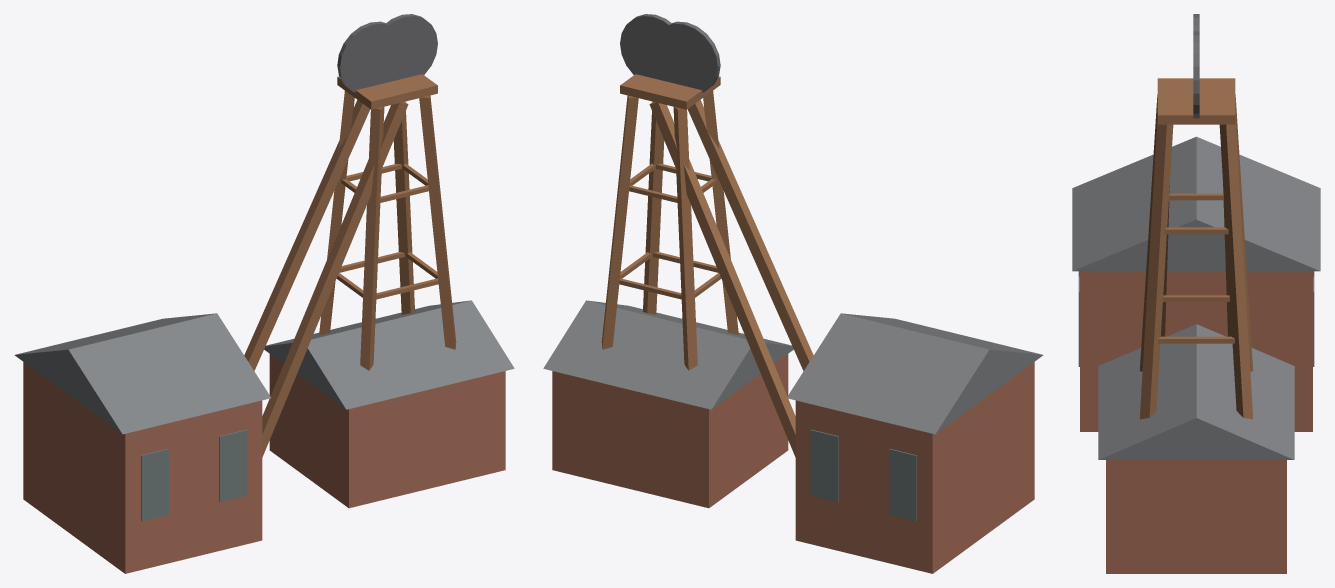
The model's file is Headframe.glb.
The picture shows the model from 3 angles, left to right: view 1: azimuth 30°, elevation 25°; view 2: azimuth 150°, elevation 25°; view 3: azimuth 270°, elevation 25°; orthographic projection. The views are drawn at different scales.
Visible parts, largest first — view 1: Winding house, Shaft house, Winding house roof, Shaft house roof, Beam.031, Beam.032, Sheave, Beam.015, Beam.017, Beam.018, Sheave.001, Arched window.001 (+3 smaller); view 2: Winding house, Shaft house, Winding house roof, Shaft house roof, Beam.032, Beam.031, Sheave, Beam.016, Beam.018, Beam.017, Sheave.001, Arched window.003 (+3 smaller); view 3: Winding house roof, Shaft house, Shaft house roof, Winding house, Beam.017, Beam.018, Sheave deck, Beam.015, Beam.016, Sheave.001, Beam.024, Beam.028 (+4 smaller).
Part boxes in pixels (left/top/right/bottom): Winding house: left=23, top=362, right=262, bottom=573; Shaft house: left=269, top=354, right=505, bottom=508; Winding house roof: left=14, top=313, right=270, bottom=434; Shaft house roof: left=264, top=300, right=514, bottom=409; Beam.031: left=262, top=102, right=408, bottom=457; Beam.032: left=244, top=100, right=370, bottom=370; Sheave: left=337, top=21, right=406, bottom=92; Beam.015: left=360, top=107, right=384, bottom=370; Beam.017: left=419, top=95, right=456, bottom=349; Beam.018: left=393, top=101, right=414, bottom=314; Sheave.001: left=379, top=14, right=437, bottom=83; Arched window.001: left=219, top=429, right=247, bottom=502; Winding house: left=795, top=362, right=1034, bottom=573; Shaft house: left=552, top=354, right=788, bottom=508; Winding house roof: left=787, top=313, right=1043, bottom=434; Shaft house roof: left=543, top=300, right=793, bottom=409; Beam.032: left=649, top=102, right=795, bottom=457; Beam.031: left=687, top=100, right=813, bottom=370; Sheave: left=651, top=21, right=720, bottom=92; Beam.016: left=673, top=107, right=697, bottom=370; Beam.018: left=601, top=95, right=638, bottom=349; Beam.017: left=643, top=101, right=664, bottom=314; Sheave.001: left=620, top=14, right=685, bottom=82; Arched window.003: left=810, top=429, right=838, bottom=502; Winding house roof: left=1072, top=136, right=1320, bottom=271; Shaft house: left=1106, top=460, right=1286, bottom=573; Shaft house roof: left=1098, top=324, right=1294, bottom=459; Winding house: left=1080, top=271, right=1312, bottom=431; Beam.017: left=1139, top=122, right=1173, bottom=419; Beam.018: left=1219, top=122, right=1253, bottom=419; Sheave deck: left=1157, top=78, right=1235, bottom=124; Beam.015: left=1139, top=94, right=1157, bottom=371; Beam.016: left=1235, top=94, right=1253, bottom=371; Sheave.001: left=1193, top=31, right=1199, bottom=118; Beam.024: left=1158, top=336, right=1234, bottom=343; Beam.028: left=1164, top=227, right=1228, bottom=234.
Bounding box in the file's own units: 20.6 × 21.61 × 9.6.
